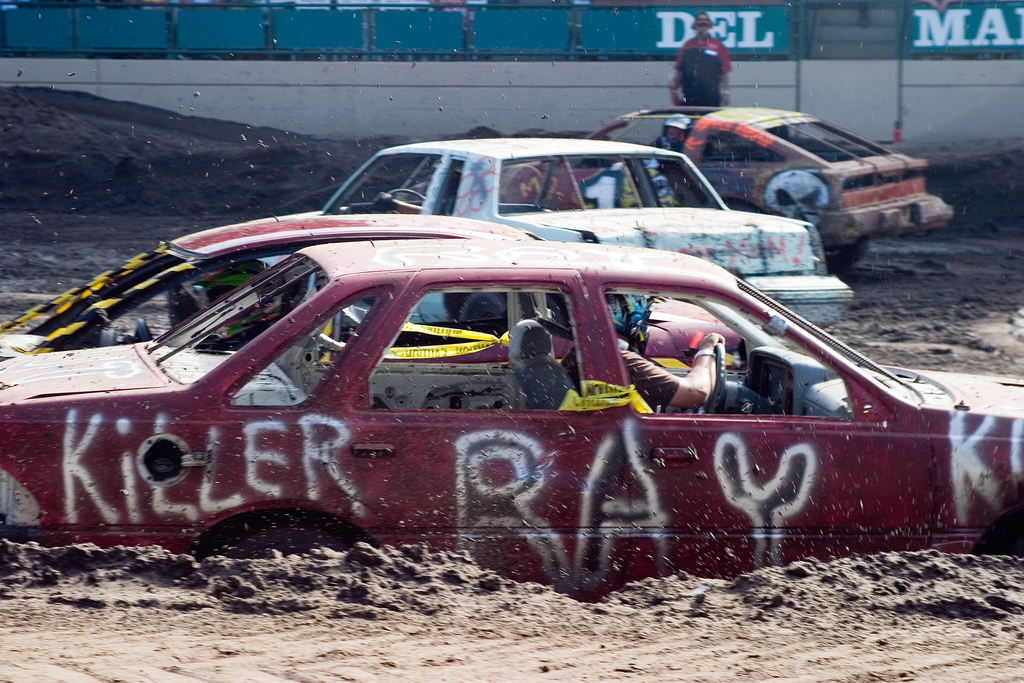Car: (0, 239, 1024, 603), (165, 134, 853, 341), (0, 208, 738, 371), (498, 107, 952, 273)
